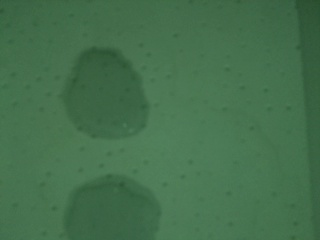Water_detected: (75, 49, 135, 127), (77, 184, 144, 240)
